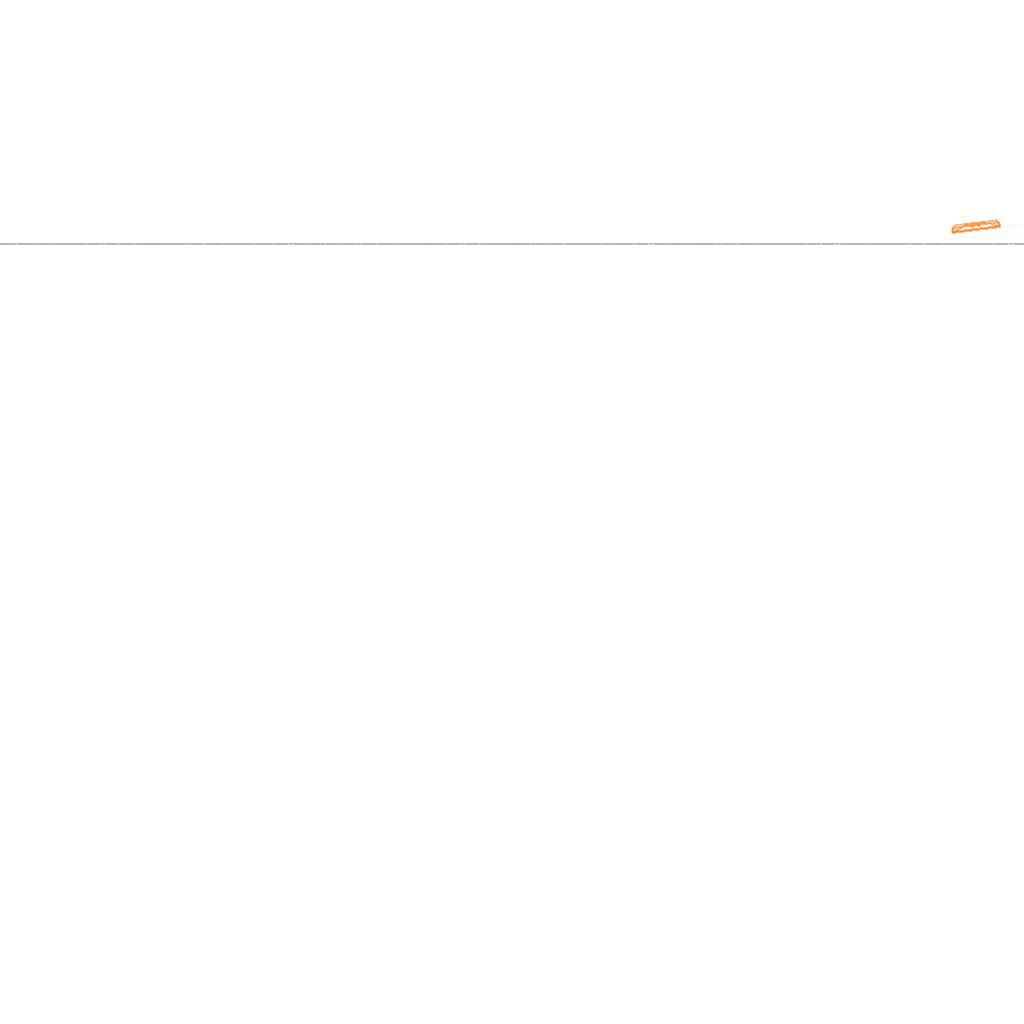Sicherheitsleuchte_Wandeinbau: (948, 213, 1024, 236)
